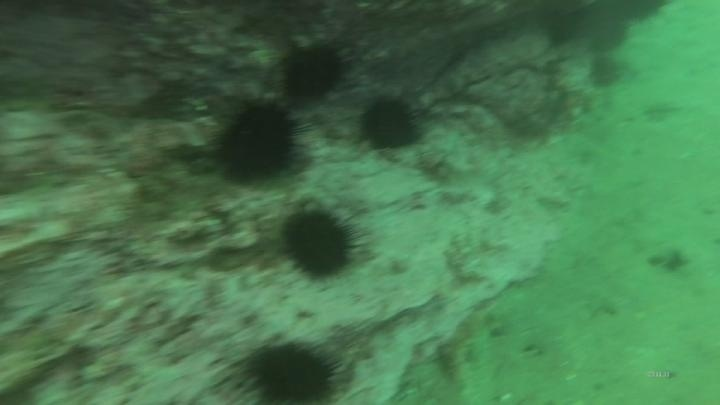echinus: (210, 96, 309, 188), (276, 200, 368, 285), (237, 335, 346, 404), (275, 38, 352, 107), (353, 91, 426, 156), (592, 57, 624, 87), (591, 22, 627, 47)
